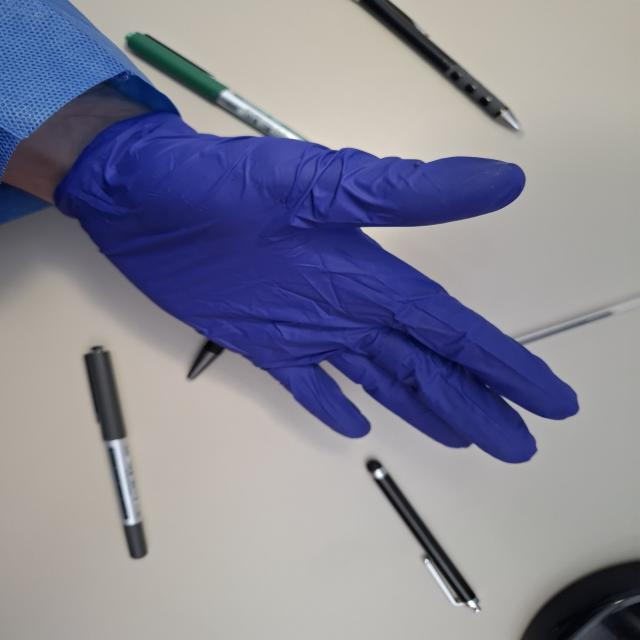glove_on: (52, 108, 584, 466)
